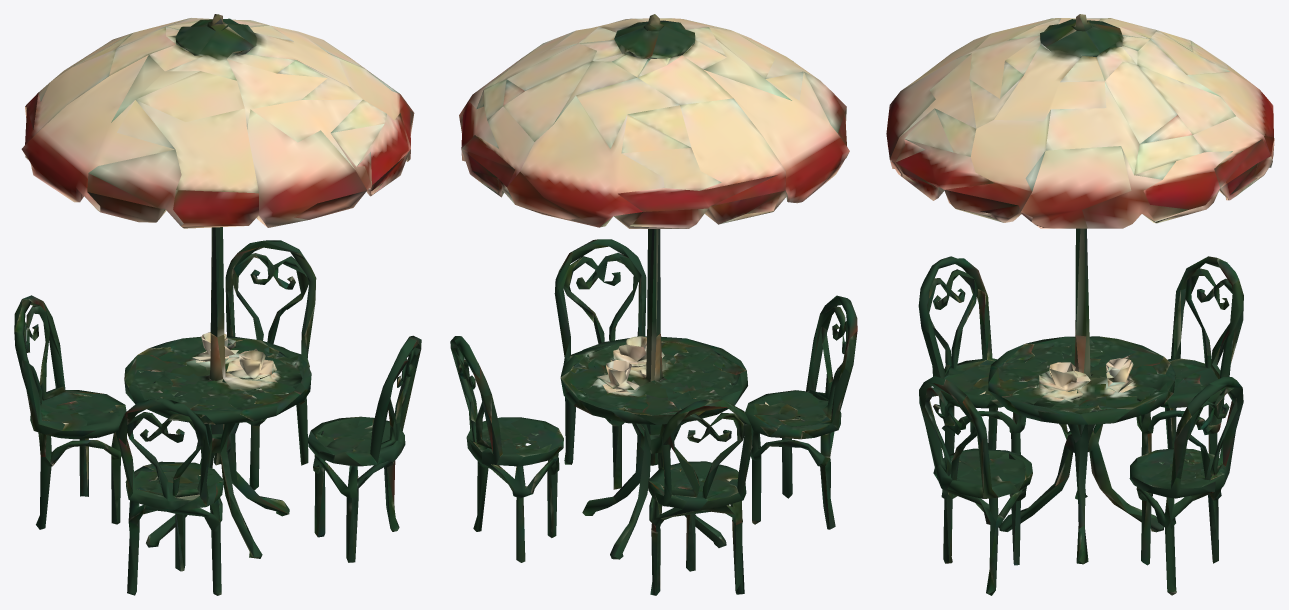
File: getkong-patio.glb
3 views of the same model, side by side, from view 1: azimuth 30°, elevation 25°; view 2: azimuth 150°, elevation 25°; view 3: azimuth 270°, elevation 25° (orthographic).
Parts seen in each view (by area): view 1: output_unwrapped; view 2: output_unwrapped; view 3: output_unwrapped.
Boxes of the visible parts, x1,y1,x2,y2 form: output_unwrapped: (14, 14, 421, 595); output_unwrapped: (450, 14, 857, 595); output_unwrapped: (886, 14, 1274, 595).
Bounding box in the file's own units: 1.29 × 1.9 × 1.3.
1 material, 1 textured.
